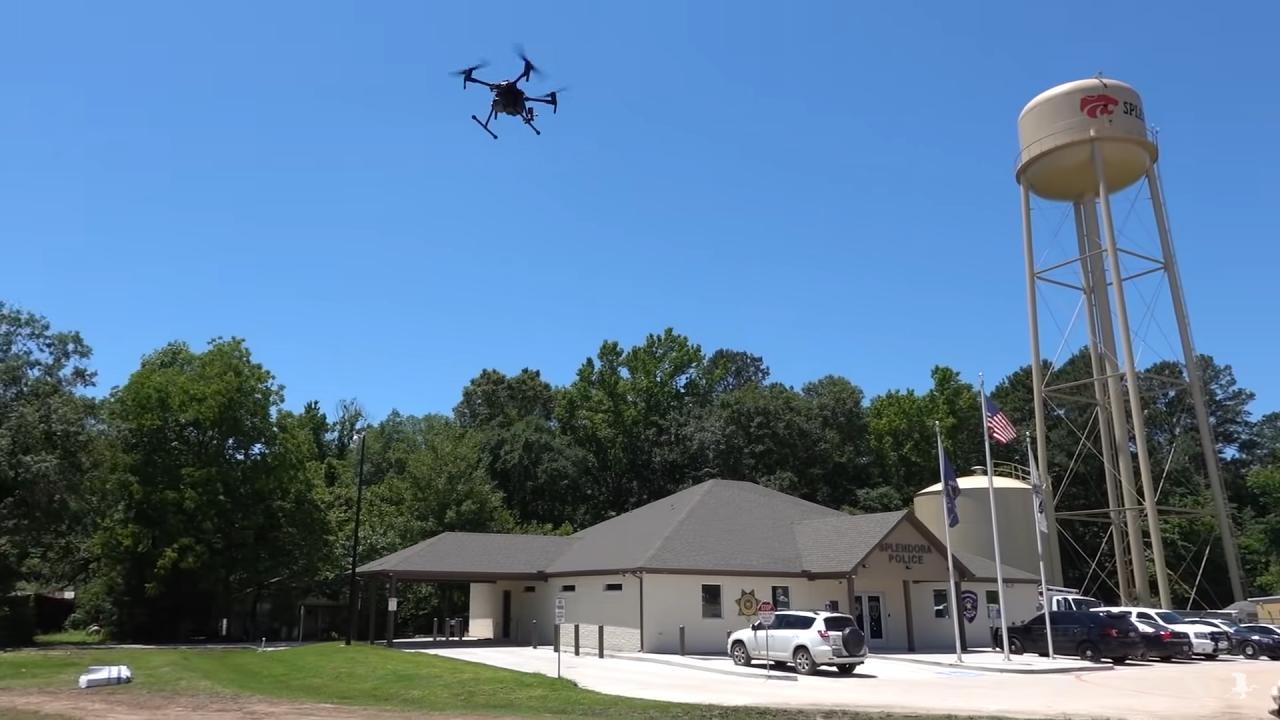Drone: (441, 32, 575, 153)
